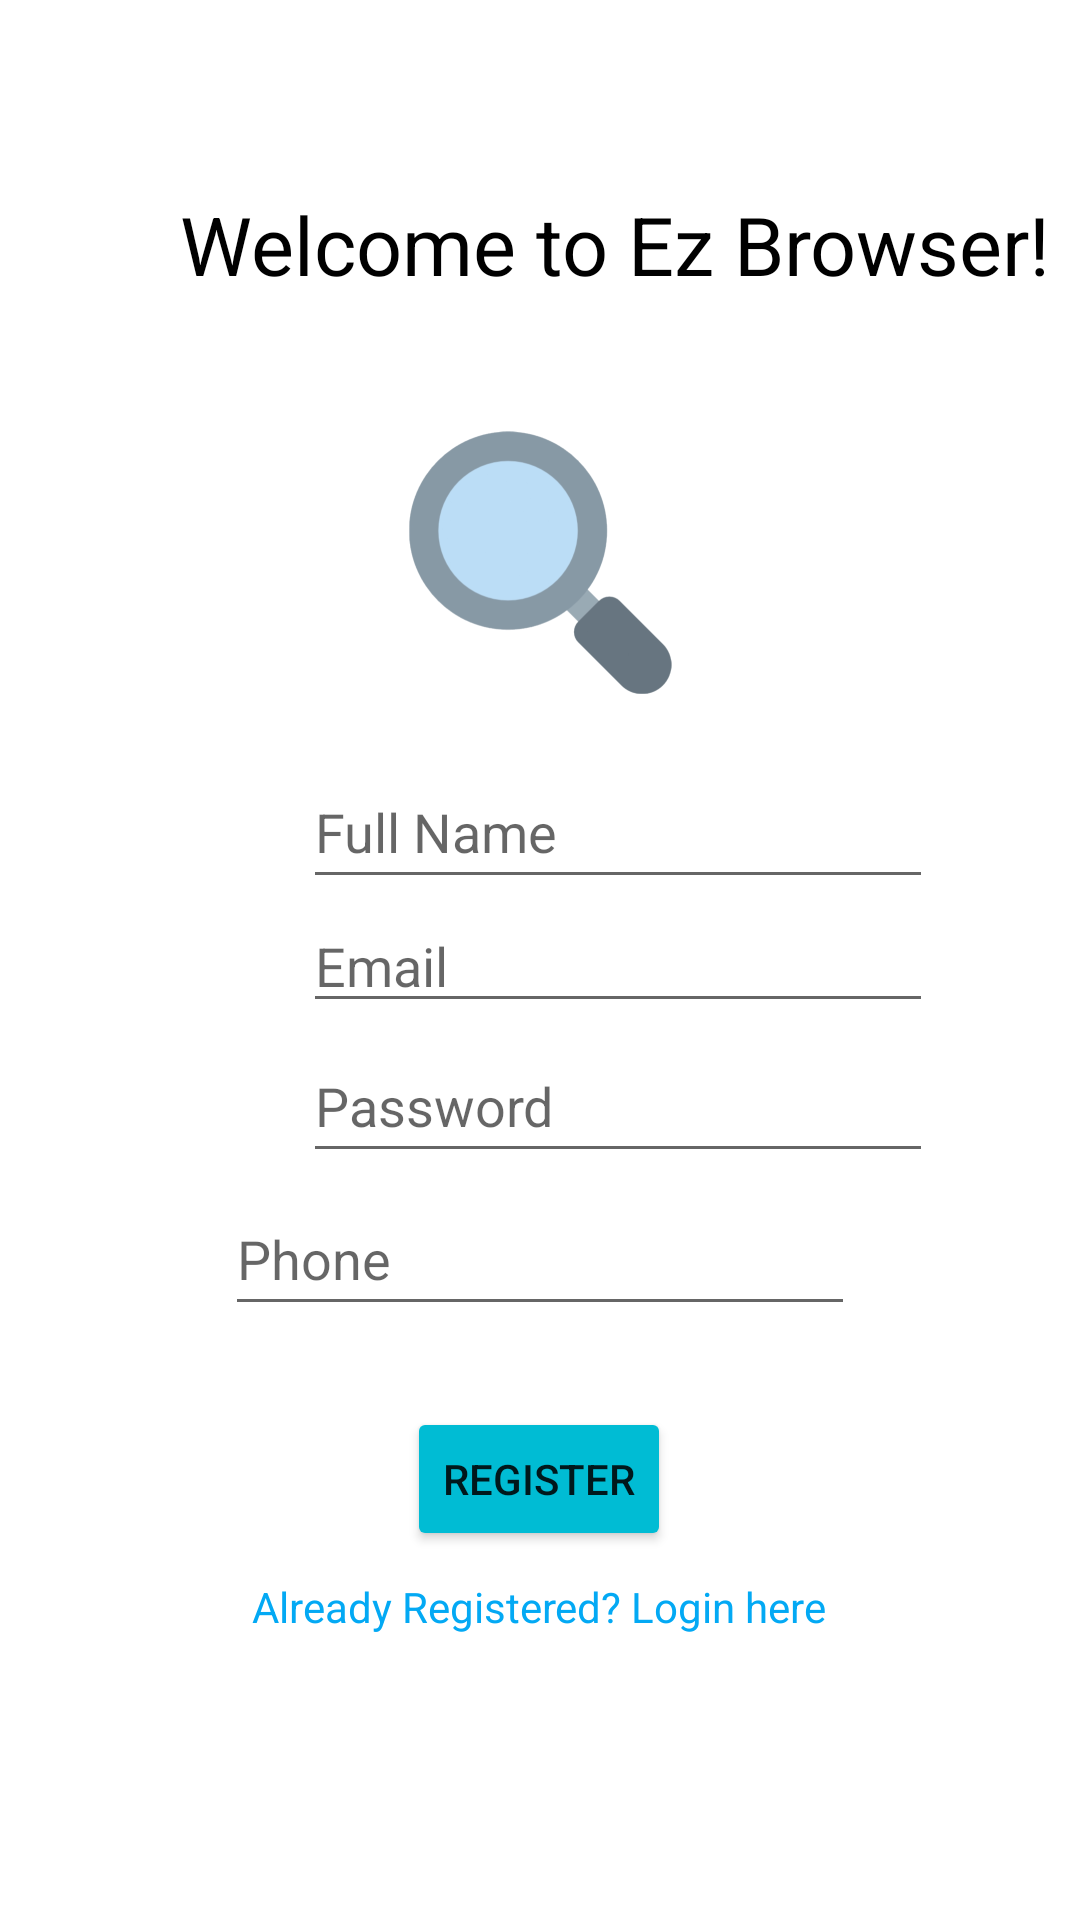

Icons on this 1080 x 1920 Android screen, each with its box as (x1, y1, x2, y2):
magnifyingglass: (409, 431, 672, 694)
